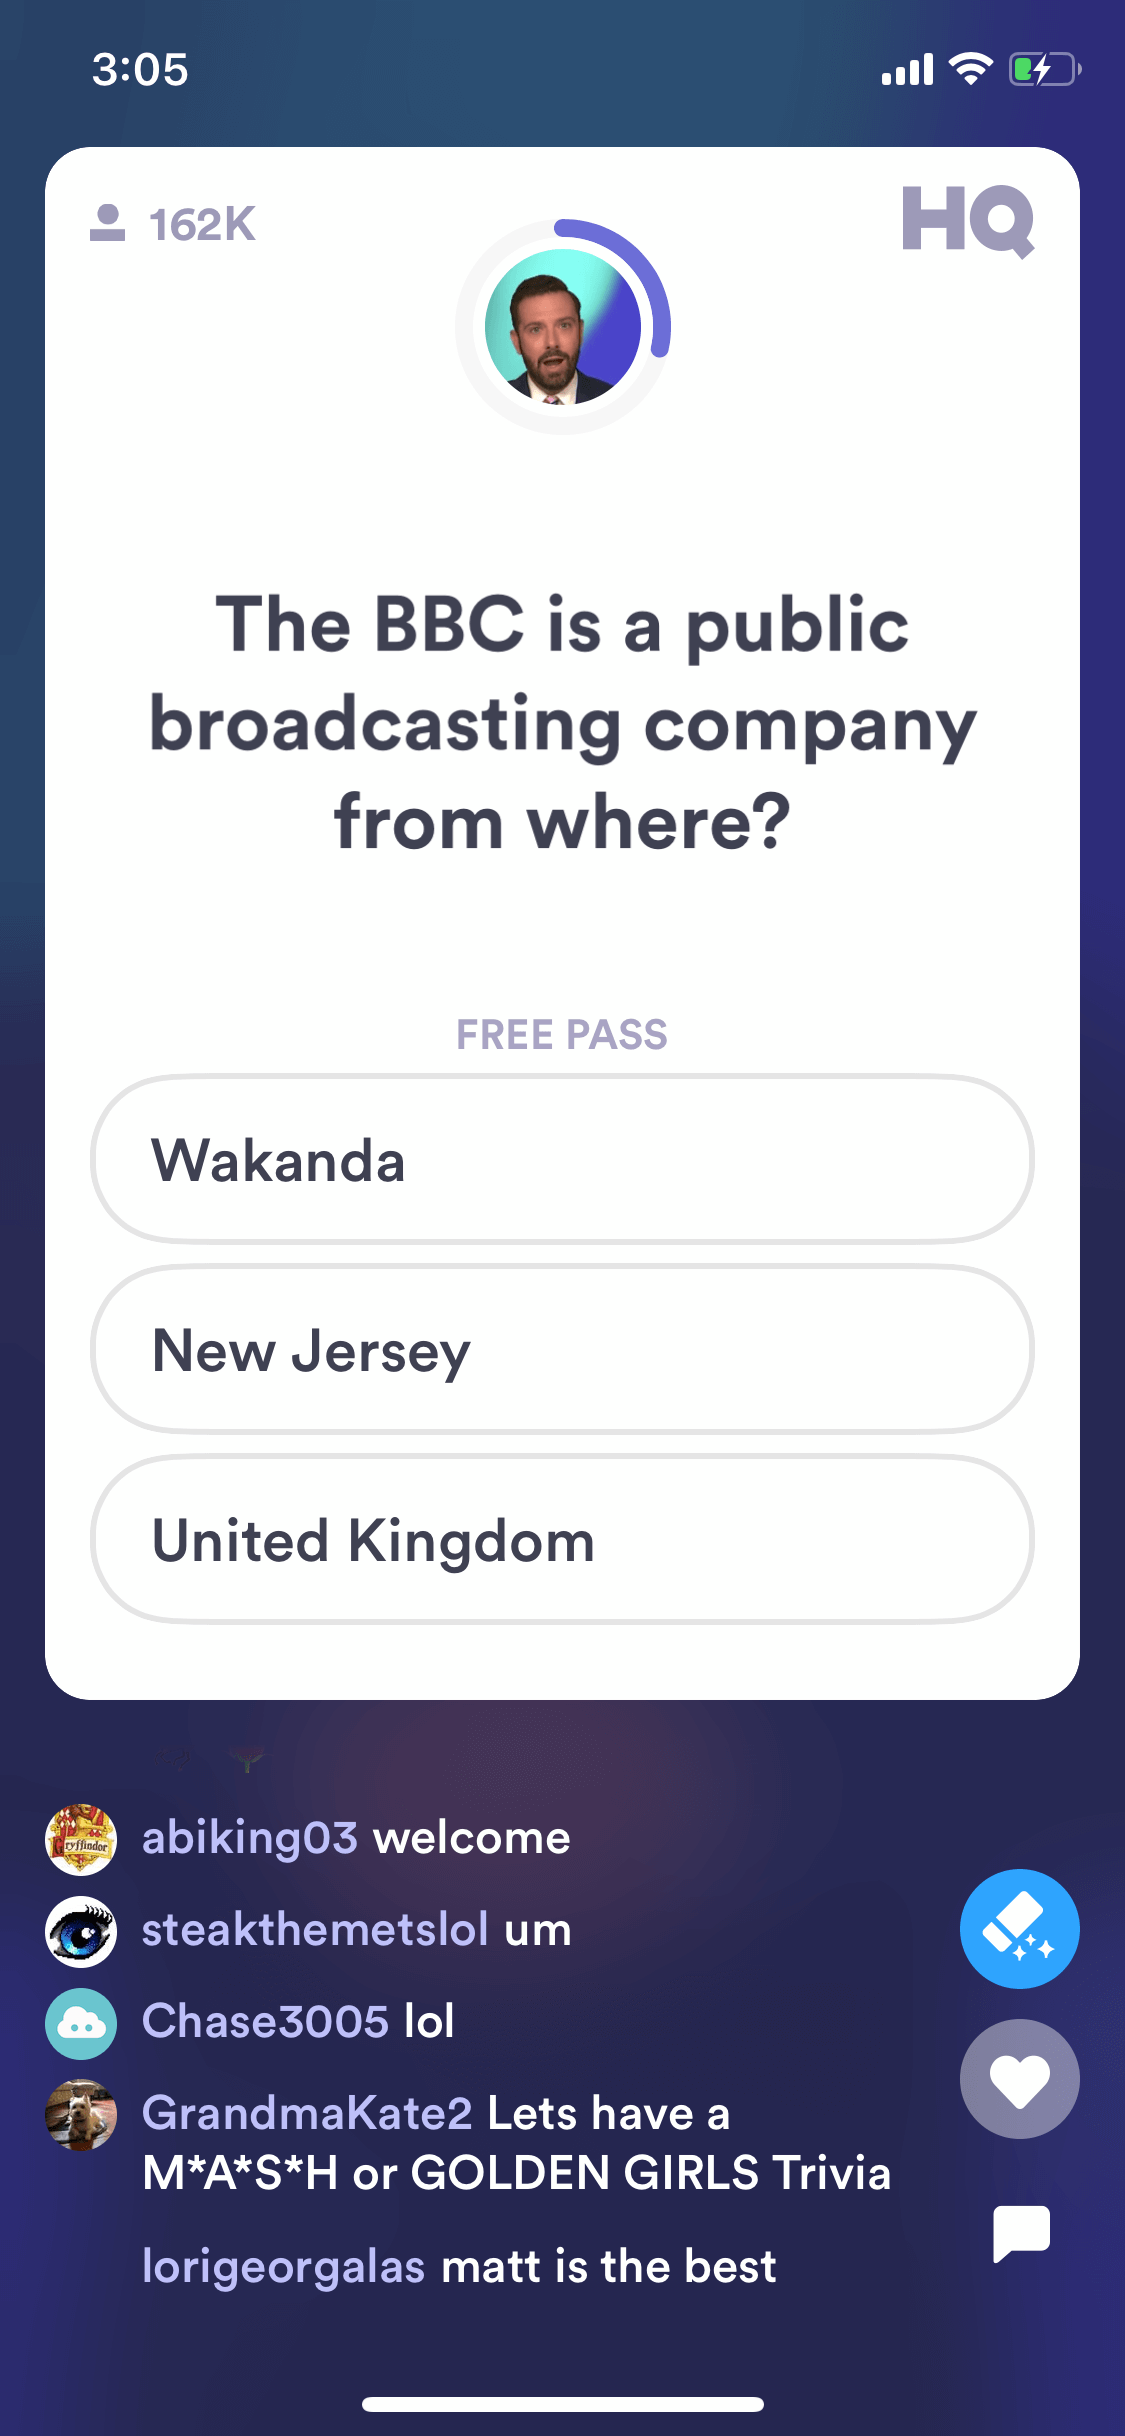Buttons: (98, 1258, 1038, 1451), (82, 1446, 1033, 1636), (85, 1067, 1036, 1252)
FAB (Floating Action Button): (948, 2010, 1102, 2150), (945, 1853, 1097, 1993), (949, 2169, 1103, 2292)
